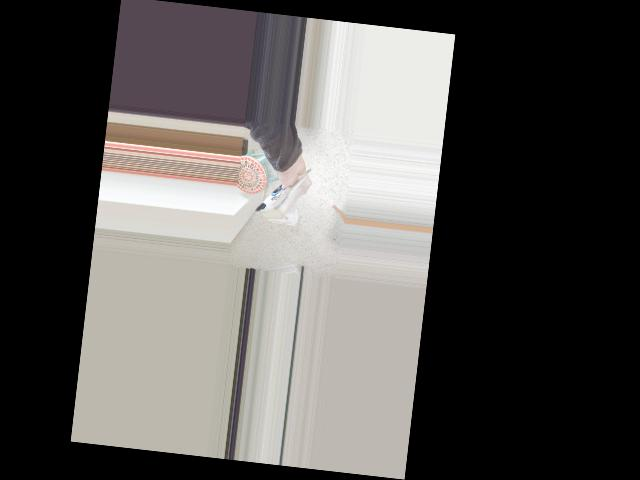cheese: (245, 151, 321, 233)
